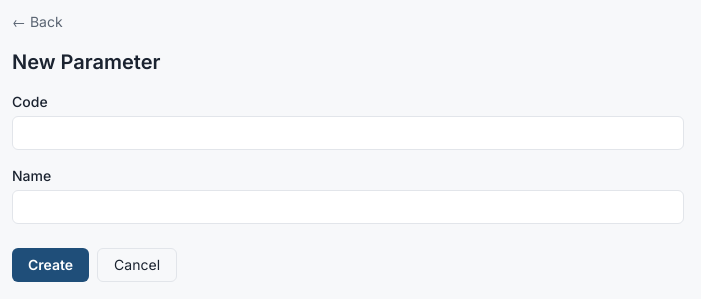
CrudForm derivedFrom › fills the name from the code while the name is untouched
Type "hs_co2_ppm" into the field labelled "Code" at (348, 133), box [12,116,684,150]
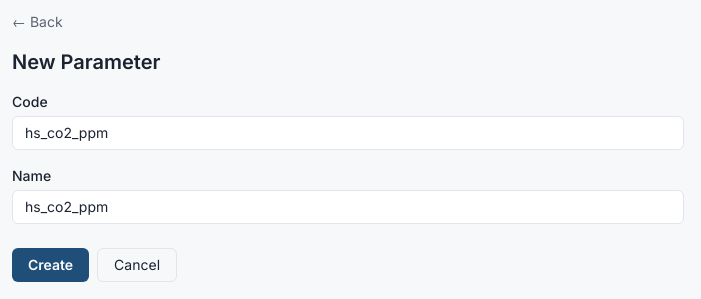
Now the field labelled "Name" holds "hs_co2_ppm", box [12,190,684,224]
